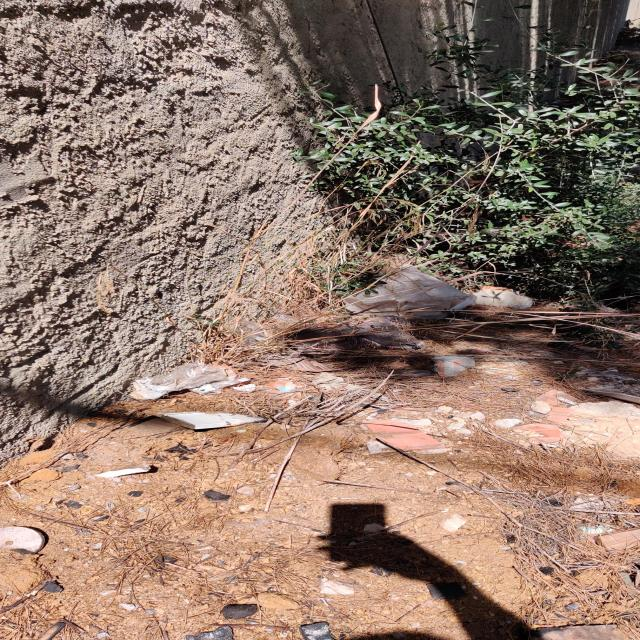litter: (334, 263, 483, 321), (131, 360, 232, 401)
